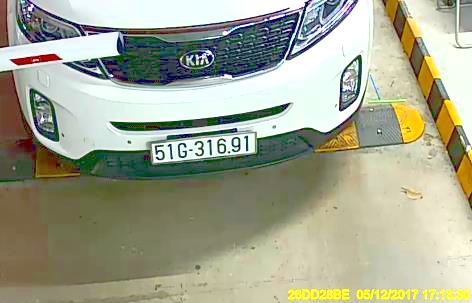plate: (152, 136, 257, 160)
